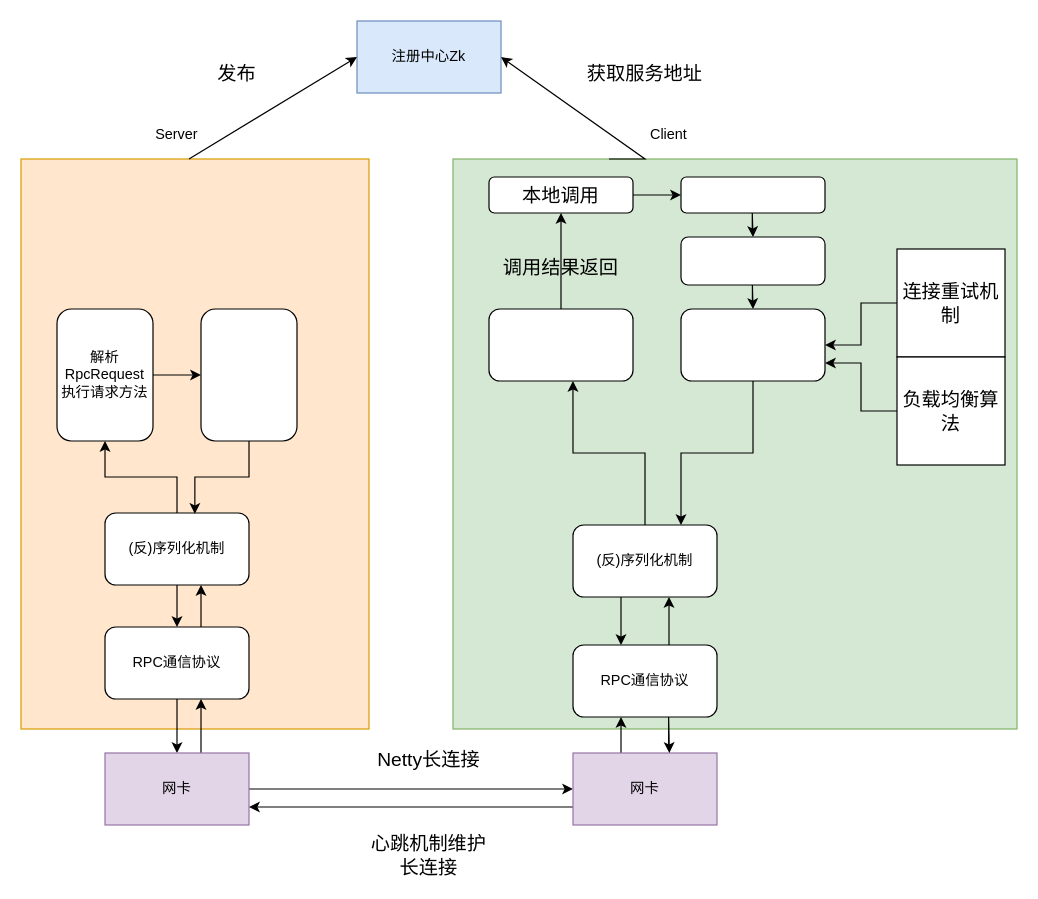
Image size: 1038x899. Some labels were removed from this diagram. Here are the shapes that lost their labels. From the top down, the centre of each, then its label:
At point (752, 194): "动态代理".
At point (752, 260): "封装RpcRequest".
At point (560, 344): "解析RpcResponse".
At point (752, 344): "建立连接/发送请求".
At point (248, 374): "封装RpcResponse对象".
